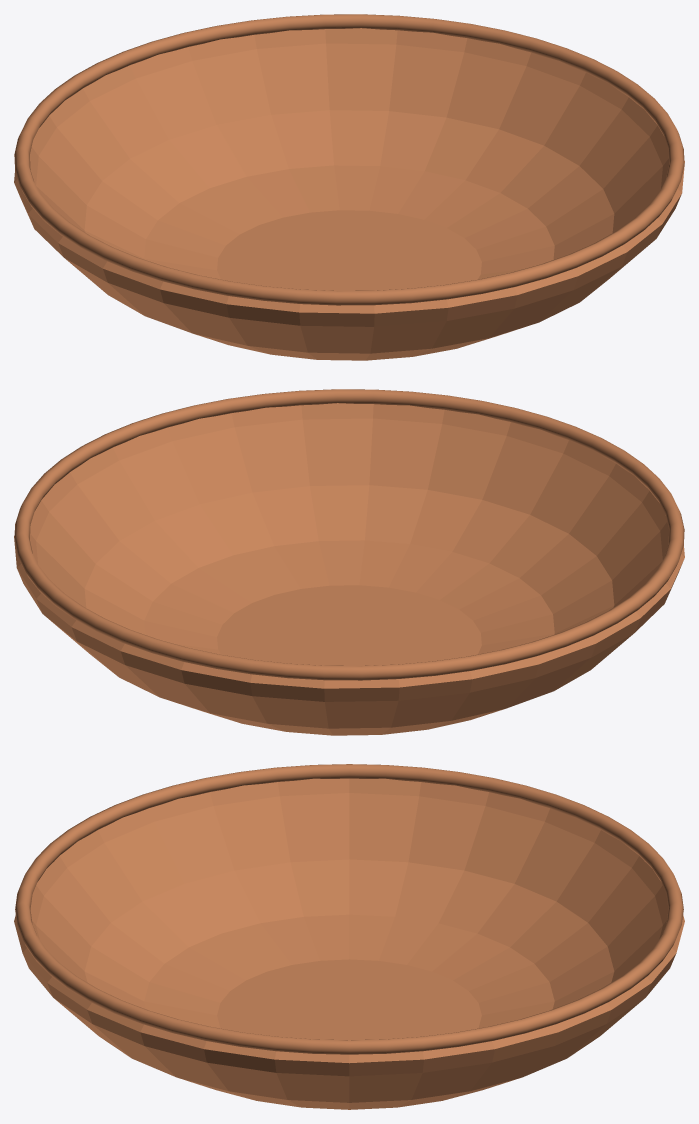
The model's file is bowl_copper_shallow.glb.
3 renders of one model, top to bottom at view 1: azimuth 30°, elevation 25°; view 2: azimuth 150°, elevation 25°; view 3: azimuth 270°, elevation 25°, orthographic.
Visible parts, largest first — view 1: Shallow faceted copper bowl, Copper bowl rolled lip; view 2: Shallow faceted copper bowl, Copper bowl rolled lip; view 3: Shallow faceted copper bowl, Copper bowl rolled lip.
Part boxes in pixels (x1=…): Shallow faceted copper bowl: x1=14, y1=28, x2=684, y2=360; Copper bowl rolled lip: x1=14, y1=14, x2=684, y2=305; Shallow faceted copper bowl: x1=14, y1=403, x2=684, y2=735; Copper bowl rolled lip: x1=14, y1=389, x2=684, y2=680; Shallow faceted copper bowl: x1=14, y1=778, x2=684, y2=1109; Copper bowl rolled lip: x1=15, y1=764, x2=683, y2=1054.
Bounding box in the file's own units: 0.304 × 0.0665 × 0.304.
